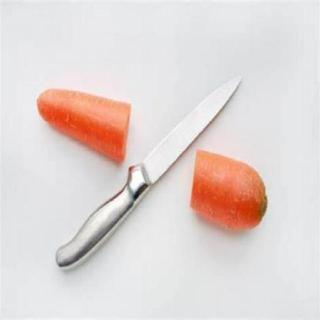carrot: (34, 87, 132, 166), (186, 147, 272, 235)
